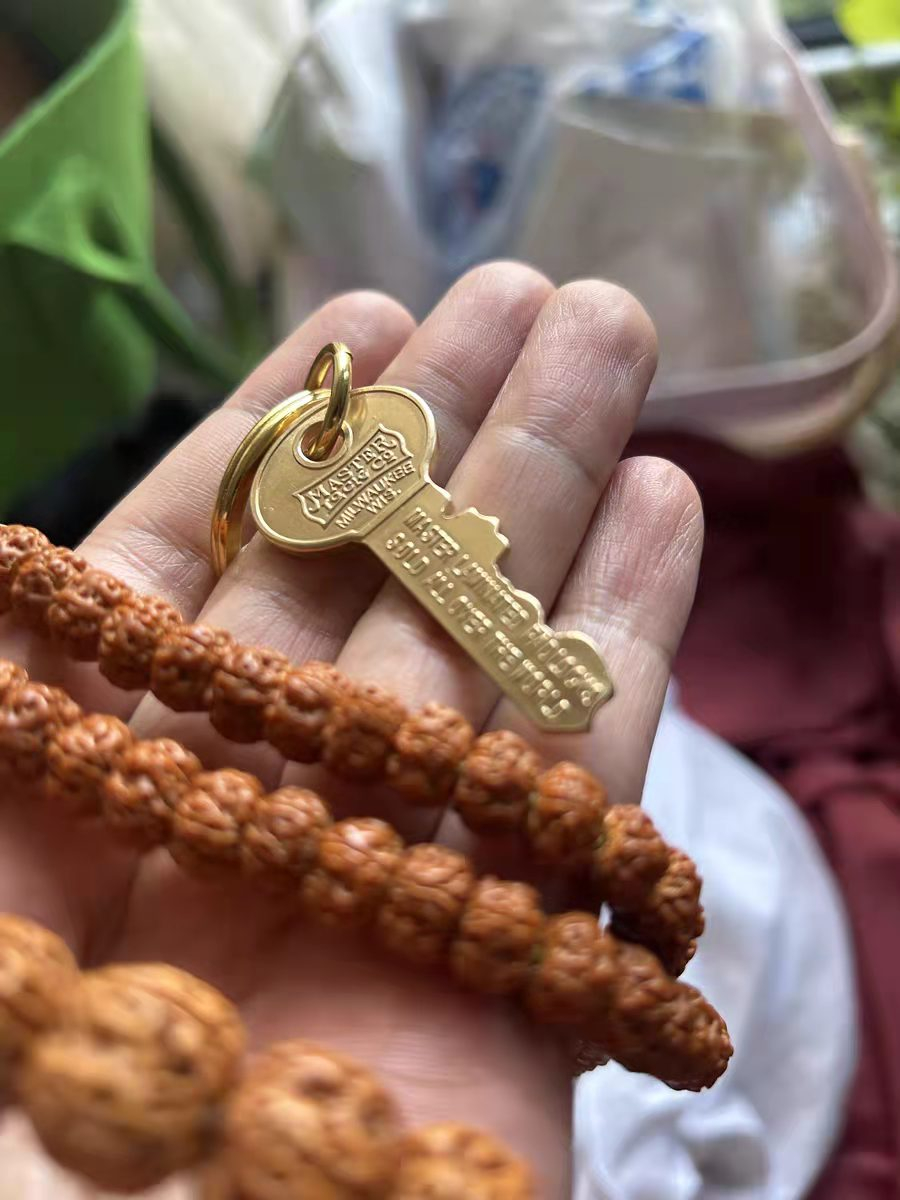key: (246, 380, 619, 728)
